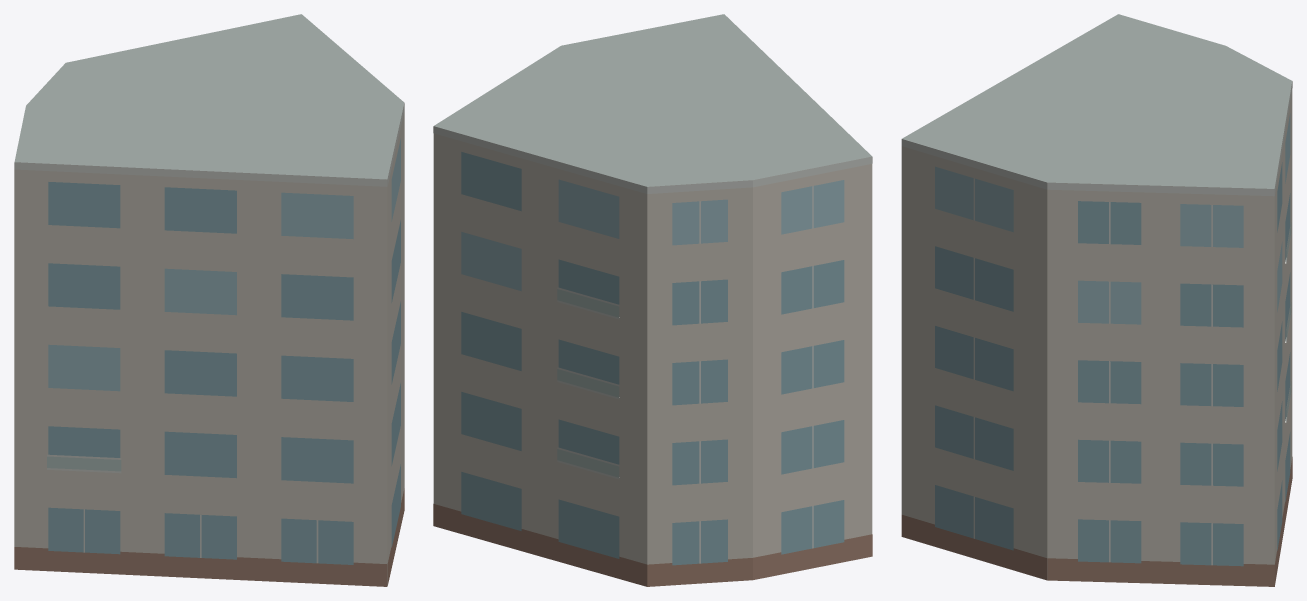
File: survey-upis-32872025.glb
3 renders of one model, left to right at view 1: azimuth 30°, elevation 25°; view 2: azimuth 150°, elevation 25°; view 3: azimuth 270°, elevation 25°, orthographic. The views are drawn at different scales.
Visible parts, largest first — view 1: survey-upis-32872025.tmp; view 2: survey-upis-32872025.tmp; view 3: survey-upis-32872025.tmp.
Part boxes in pixels (x1=…): survey-upis-32872025.tmp: x1=14, y1=14, x2=404, y2=586; survey-upis-32872025.tmp: x1=433, y1=14, x2=872, y2=586; survey-upis-32872025.tmp: x1=901, y1=14, x2=1292, y2=586.
Size of the model in its own units: 12.74 by 13.5 by 12.03.
